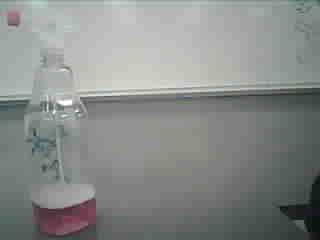hazard: (6, 4, 105, 232)
